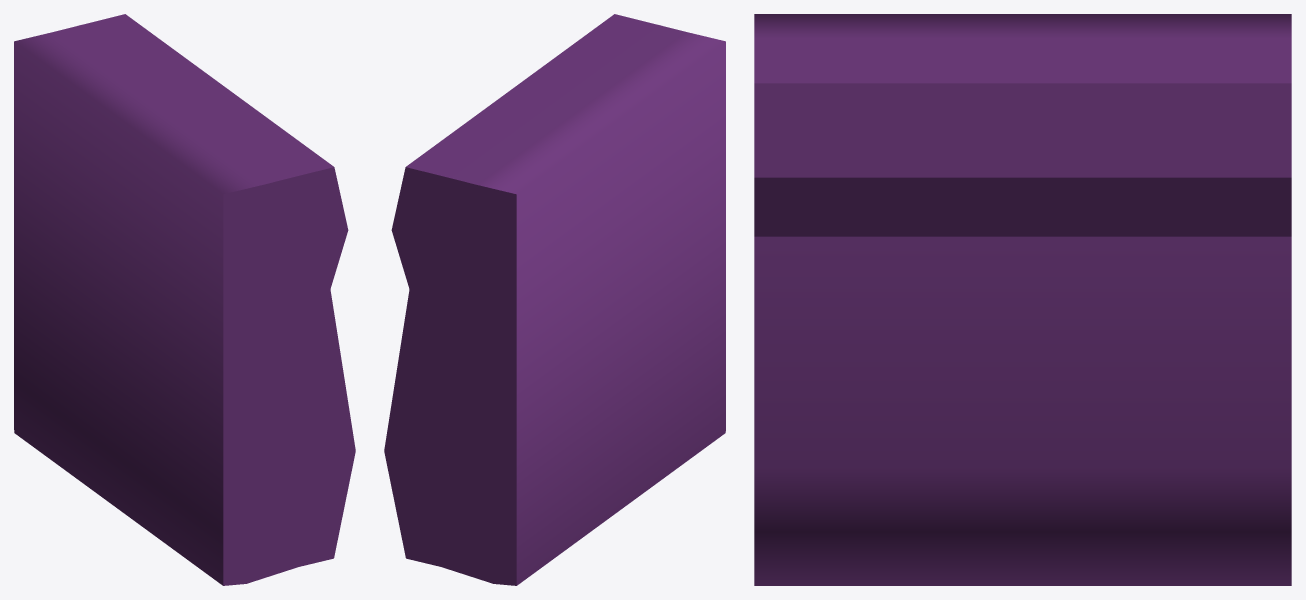
The model's file is intro_prop(wall_catacombs_L)_01.FBX.
3 views of the same model, side by side, from view 1: azimuth 30°, elevation 25°; view 2: azimuth 150°, elevation 25°; view 3: azimuth 270°, elevation 25° (orthographic). The views are drawn at different scales.
Visible parts, largest first — view 1: wall_catacombs_L001; view 2: wall_catacombs_L001; view 3: wall_catacombs_L001.
Part boxes in pixels (x1,y1,x2,y2): wall_catacombs_L001: (14, 14, 355, 585); wall_catacombs_L001: (384, 14, 725, 585); wall_catacombs_L001: (754, 14, 1291, 585).
Size of what is drawn, in the model's own units: 63.73 by 182 by 174.
